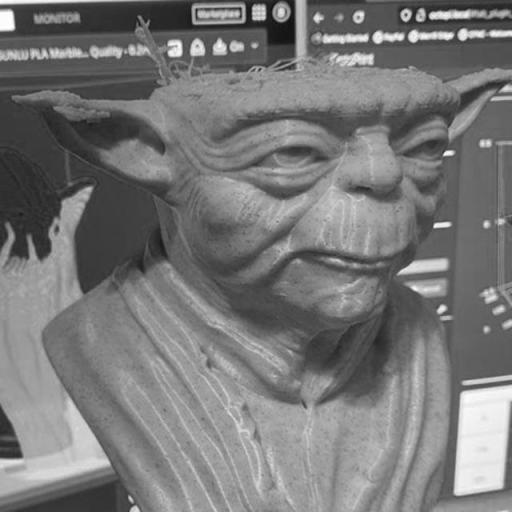spaghetti_and_stringing: (134, 14, 211, 84), (242, 53, 352, 84)
